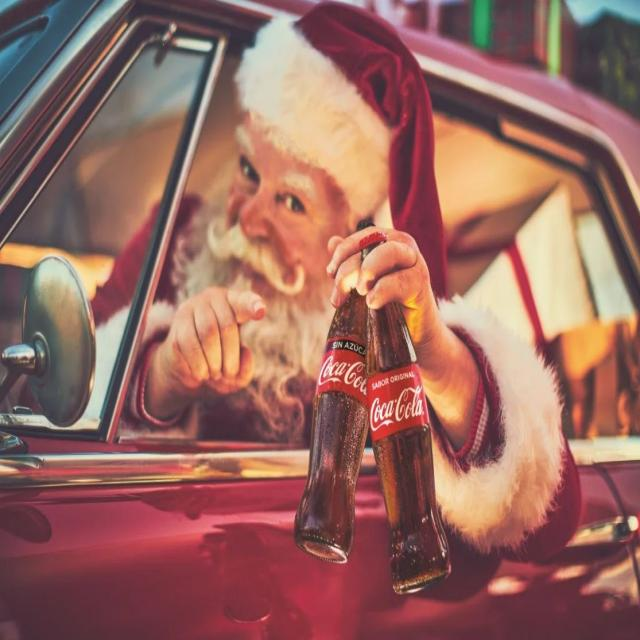coca cola: (369, 378, 427, 437), (317, 348, 367, 399)
